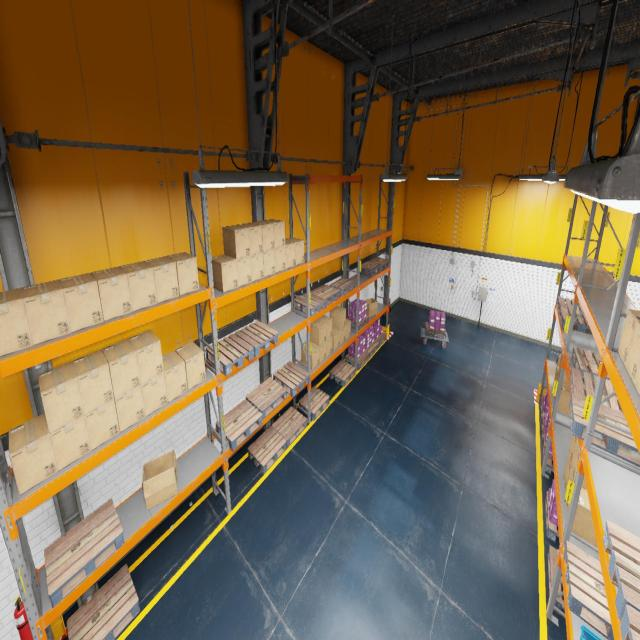box: (8, 413, 58, 495), (38, 362, 84, 433), (21, 280, 71, 345), (71, 350, 114, 414), (58, 272, 103, 332), (101, 339, 141, 398), (0, 288, 33, 357), (91, 267, 132, 321), (50, 416, 90, 471), (142, 450, 177, 510), (127, 329, 164, 384), (119, 261, 157, 311), (84, 399, 120, 450), (567, 487, 597, 548), (143, 256, 179, 302), (174, 342, 206, 389), (114, 385, 145, 432), (166, 252, 199, 295), (162, 350, 188, 402), (618, 308, 640, 366), (141, 372, 168, 417), (212, 255, 238, 292), (222, 225, 250, 259), (565, 466, 586, 511), (626, 321, 640, 384), (236, 223, 262, 255), (571, 438, 587, 489), (250, 221, 274, 251), (261, 219, 285, 248), (285, 237, 304, 265), (301, 341, 319, 369), (557, 382, 571, 416), (237, 255, 251, 287), (310, 319, 326, 345), (250, 252, 264, 281), (330, 306, 346, 328), (318, 315, 332, 340), (263, 249, 275, 277), (563, 451, 571, 492), (555, 373, 567, 399), (558, 352, 568, 383), (312, 341, 326, 363), (363, 298, 378, 317), (332, 325, 346, 345), (285, 240, 295, 268), (275, 246, 285, 273), (569, 435, 577, 465), (634, 362, 640, 395), (332, 326, 340, 350), (555, 353, 561, 375), (345, 319, 351, 340), (326, 336, 332, 357), (553, 366, 559, 385)
pallets: (44, 498, 124, 608), (66, 564, 140, 640), (569, 393, 640, 467), (564, 541, 614, 639), (602, 520, 640, 621), (215, 399, 262, 451), (569, 368, 623, 412), (206, 334, 253, 376), (248, 426, 286, 474), (246, 378, 286, 420), (234, 321, 278, 356), (571, 346, 610, 382), (272, 406, 306, 447), (273, 362, 309, 397), (548, 545, 564, 615), (298, 386, 330, 420), (559, 307, 592, 334), (294, 293, 326, 316), (620, 604, 640, 640), (545, 491, 559, 542), (329, 360, 356, 386), (310, 284, 340, 304), (556, 296, 582, 314), (330, 277, 354, 296), (345, 351, 369, 369), (543, 438, 553, 474), (357, 261, 381, 276), (425, 322, 446, 339), (346, 315, 369, 330), (368, 257, 390, 270), (364, 341, 378, 358), (374, 332, 386, 348), (540, 398, 546, 422), (542, 416, 545, 444)
